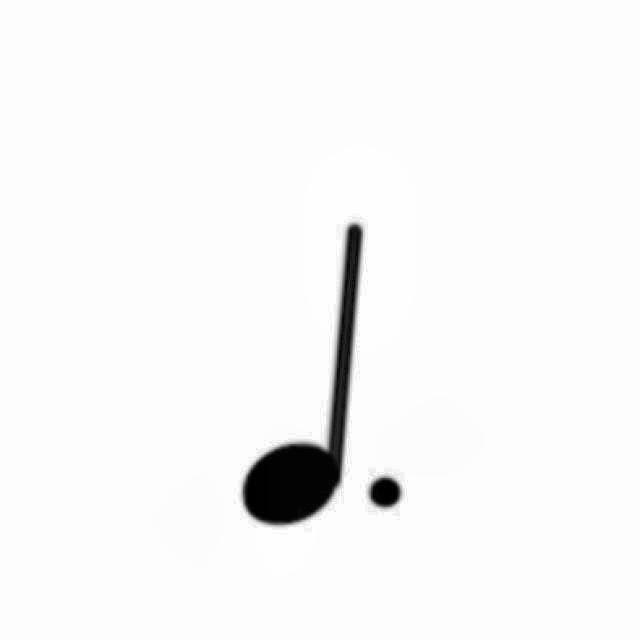Quarter-dot: (229, 214, 416, 534)
